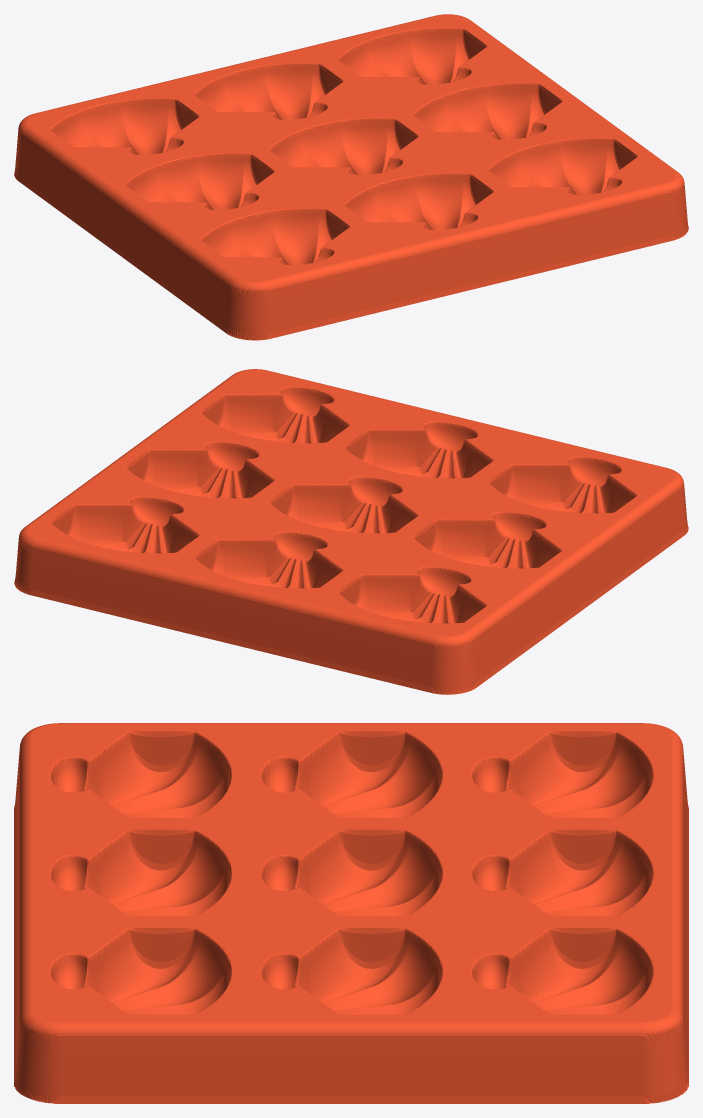
The model's file is mold.glb.
3 views of the same model, one above another, from view 1: azimuth 30°, elevation 25°; view 2: azimuth 150°, elevation 25°; view 3: azimuth 270°, elevation 25° (orthographic). The views are drawn at different scales.
Parts seen in each view (by area): view 1: geometry_0; view 2: geometry_0; view 3: geometry_0.
Boxes of the visible parts, <box> form: geometry_0: <box>14,14,688,340</box>; geometry_0: <box>14,369,688,694</box>; geometry_0: <box>14,723,688,1103</box>.
Bounding box in the file's own units: 0.1438 × 0.0159 × 0.131.
